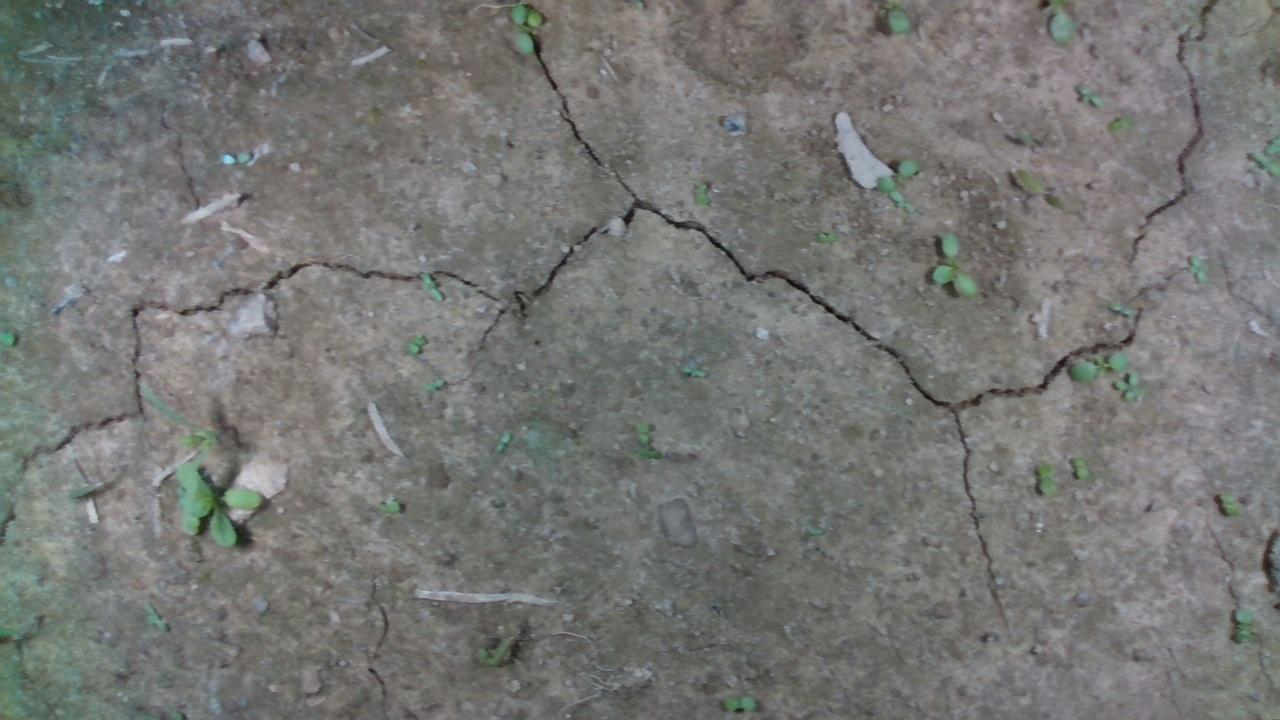weed: (930, 231, 978, 298), (875, 157, 930, 207), (1010, 166, 1066, 211), (1065, 351, 1128, 381), (1113, 372, 1155, 410), (1180, 250, 1215, 294), (410, 265, 450, 302), (1230, 607, 1260, 652), (367, 496, 413, 521), (1073, 77, 1108, 105), (1030, 461, 1055, 495), (1208, 490, 1238, 517), (812, 219, 845, 243), (419, 374, 450, 399), (683, 179, 712, 203), (491, 425, 515, 454), (1072, 456, 1091, 489), (399, 332, 431, 348)
